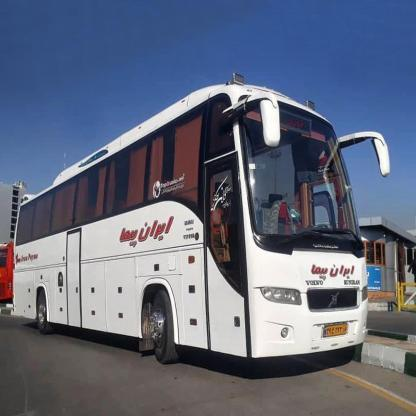Bus: (11, 75, 370, 366), (0, 236, 18, 307)
